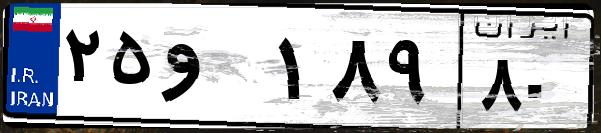0: (525, 38, 570, 115)
1: (270, 28, 330, 110)
2: (57, 26, 110, 100)
5: (110, 28, 158, 98)
8: (330, 28, 385, 110), (475, 38, 525, 113)
9: (385, 28, 445, 110)
و: (158, 20, 270, 120)
